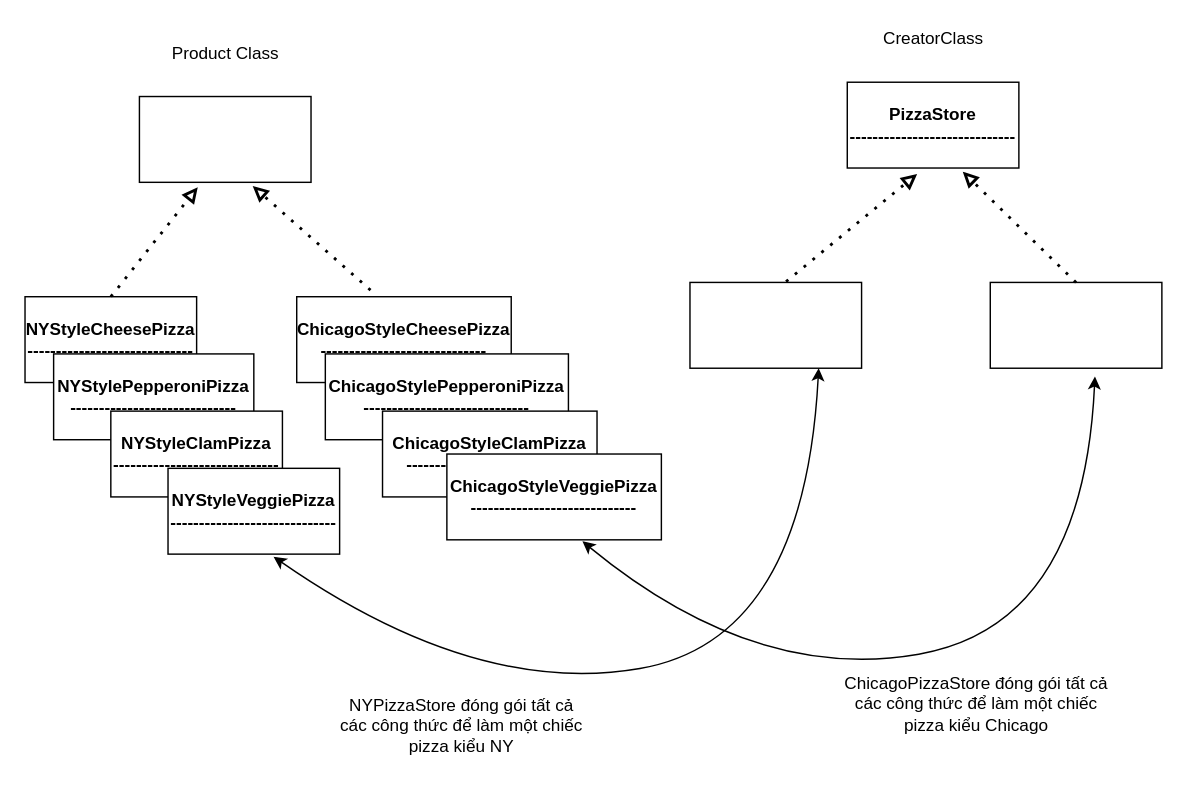
Image size: 1187x785. Some labels were removed from this diagram. Each missing label, with the centre of its shape:
"ChicagoPizzaStore -----------------------------" goes at pixel 1075 324.
"NYPizzaStore -----------------------------" goes at pixel 775 324.
"Pizza -----------------------------" goes at pixel 224 138.
